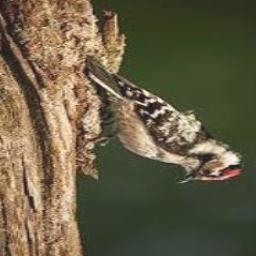Woodpecker: (87, 58, 245, 185)
